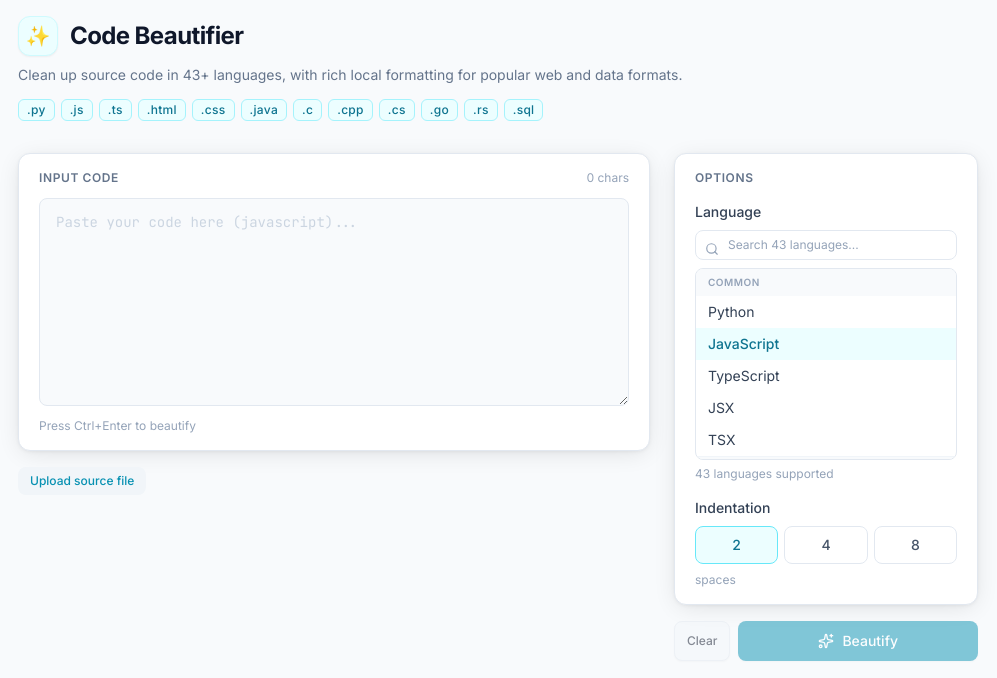
Test case: CodeBeautifierPage › clears input on Clear button click
Type "some code" into the text box with placeholder "Paste your code here (javascript)..." at (334, 302), box [39,198,629,406]
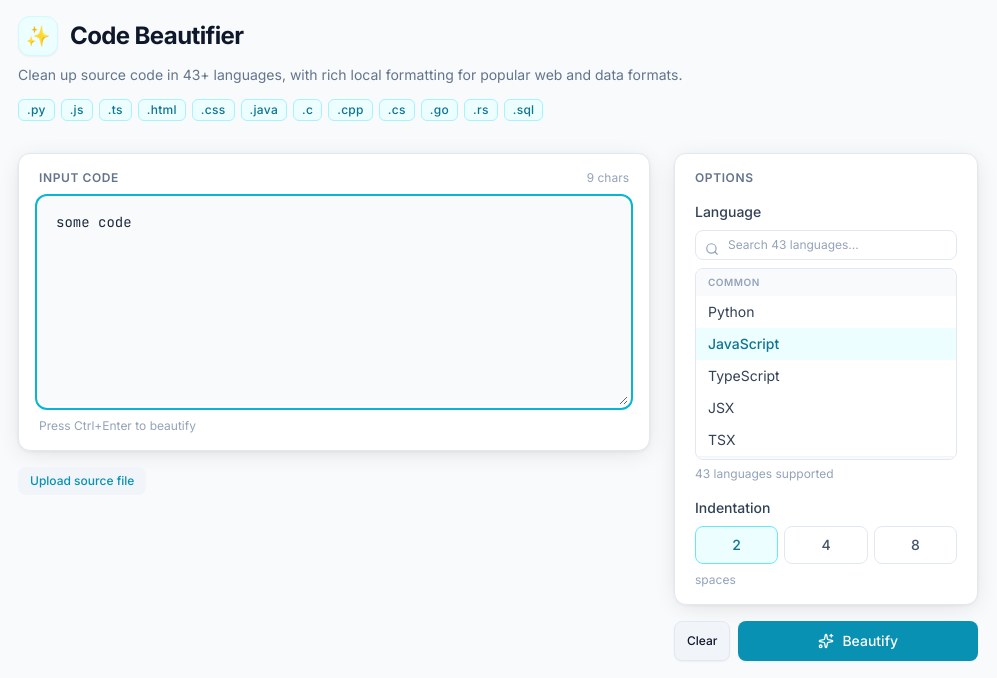
Click the button "Clear" at (702, 641), box [674,621,730,661]
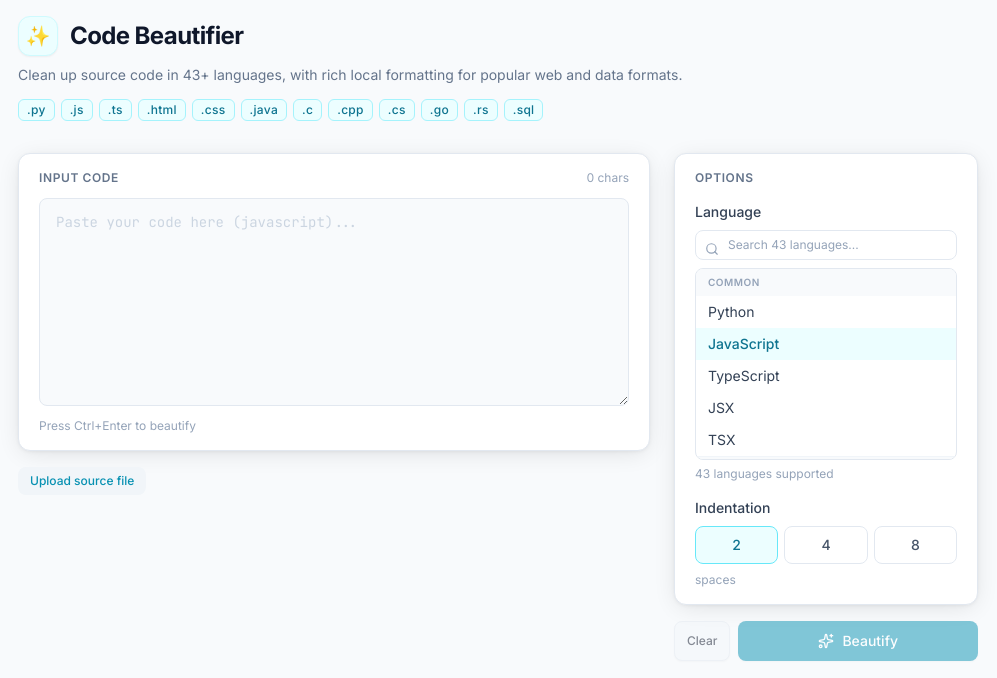
Now the text box with placeholder "Paste your code here (javascript)..." is empty, box [39,198,629,406]
